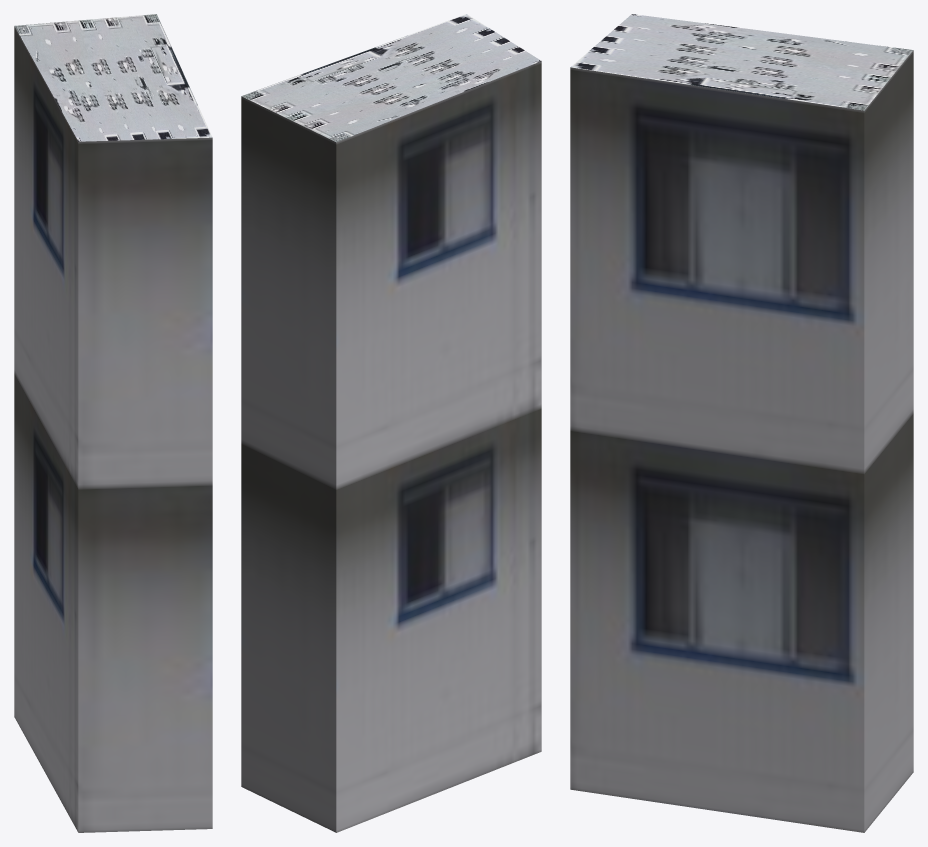
Rendered from ResTex__648.fbx.
3 views of the same model, side by side, from view 1: azimuth 30°, elevation 25°; view 2: azimuth 150°, elevation 25°; view 3: azimuth 270°, elevation 25° (orthographic). The views are drawn at different scales.
Visible parts, largest first — view 1: CityEngineMaterial_9_m, CityEngineMaterial_2_m; view 2: CityEngineMaterial_9_m, CityEngineMaterial_2_m; view 3: CityEngineMaterial_9_m, CityEngineMaterial_2_m.
Part boxes in pixels (left/top/right/bottom): CityEngineMaterial_9_m: left=14, top=26, right=212, bottom=832; CityEngineMaterial_2_m: left=14, top=14, right=212, bottom=141; CityEngineMaterial_9_m: left=241, top=61, right=541, bottom=832; CityEngineMaterial_2_m: left=241, top=14, right=541, bottom=142; CityEngineMaterial_9_m: left=570, top=50, right=913, bottom=832; CityEngineMaterial_2_m: left=571, top=14, right=913, bottom=110.
Bounding box in the file's own units: 1.72 × 6 × 2.58.
2 materials, 2 textured.
